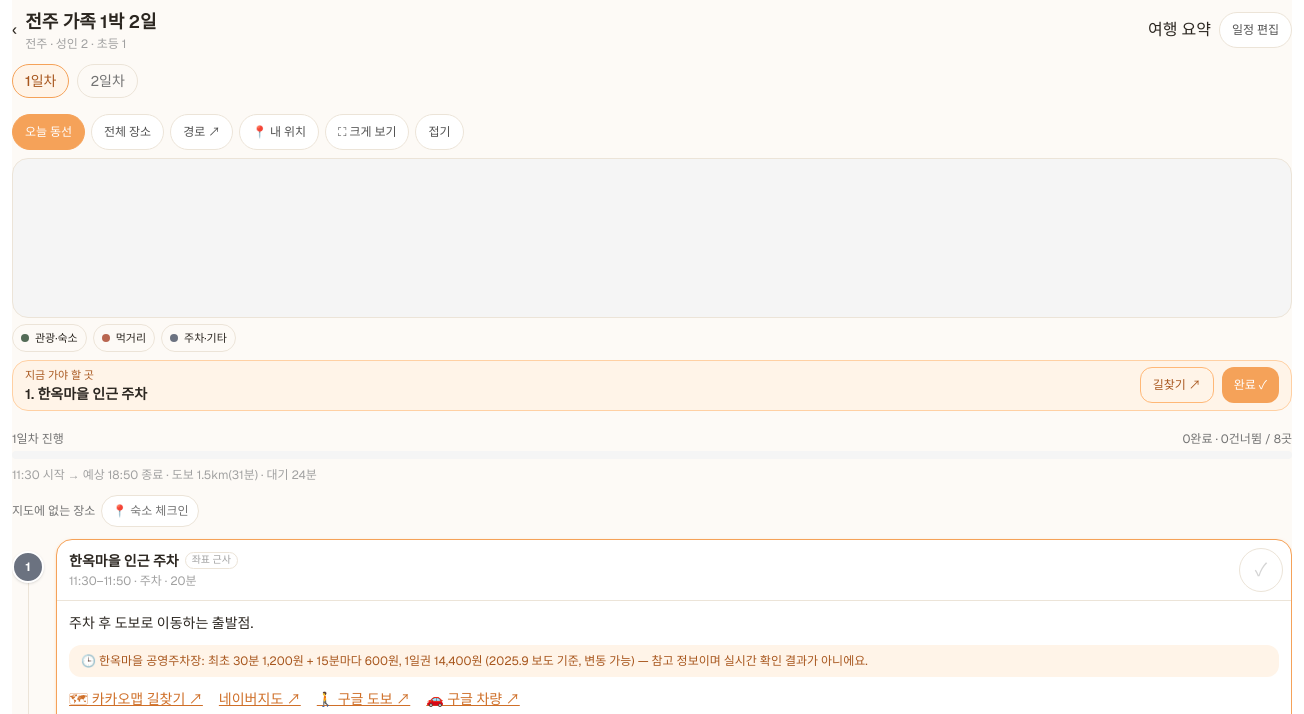
Test: 일정 편집 › 체류시간 조절이 즉시 반영된다
The width and height of the screenshot is (1304, 714).
Step 1. Click the button "일정 편집" → (1255, 30), box [1219,12,1292,48]
(page scrolled)
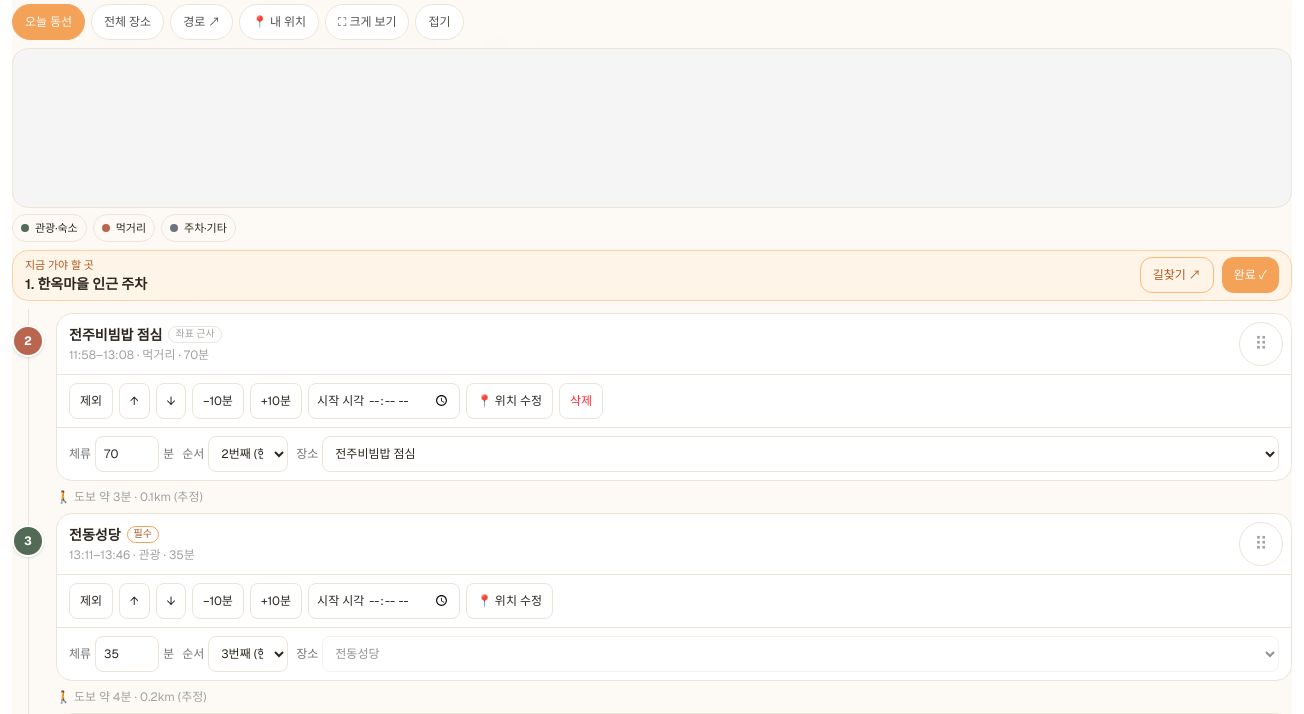
Expected: the text "11:58–13:08 · 먹거리 · 70분" is shown, [69,346,209,362]
Step 2. Click the button named "체류시간 10분 증가" → (276, 400), box [250,382,302,418]
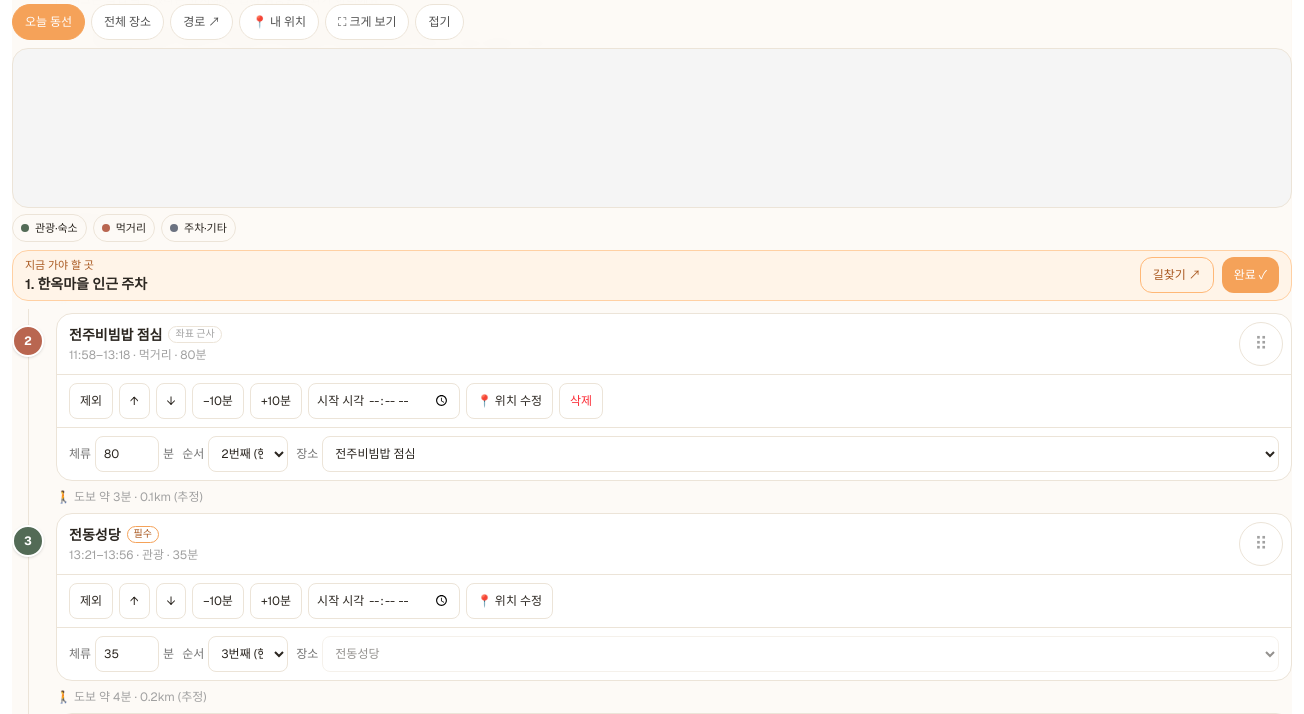
Now the text "11:58–13:18 · 먹거리 · 80분" is shown, box [69,346,206,362]
